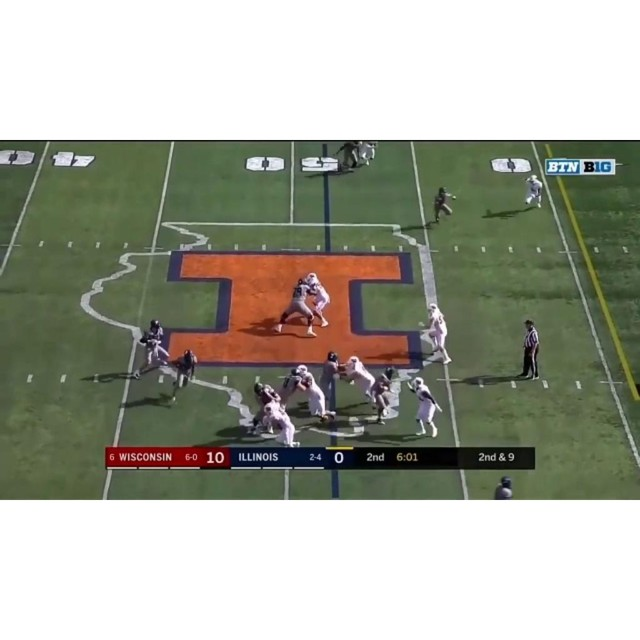american-football-player: (293, 364, 337, 423), (273, 277, 317, 336), (158, 349, 198, 407), (133, 320, 170, 380), (408, 378, 442, 440), (249, 379, 283, 434), (422, 304, 452, 365), (265, 401, 301, 448), (368, 368, 397, 426), (344, 356, 376, 406), (306, 273, 331, 328), (431, 185, 457, 224), (523, 174, 543, 209)
referee: (516, 317, 542, 381)
